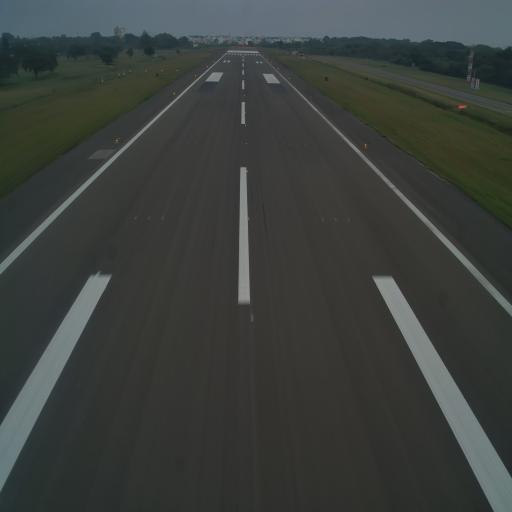off: (332, 215, 338, 226), (320, 215, 326, 225), (159, 212, 165, 222), (345, 213, 350, 225), (133, 212, 138, 222), (177, 138, 183, 146), (147, 213, 152, 222), (194, 139, 198, 145), (289, 140, 292, 148), (303, 142, 307, 148), (309, 95, 313, 101), (296, 142, 299, 148), (187, 140, 190, 145)
on: (248, 310, 255, 324), (362, 141, 368, 151), (246, 215, 252, 224), (115, 136, 120, 146), (244, 138, 248, 147), (244, 121, 248, 129), (244, 168, 249, 174), (172, 90, 176, 96)
